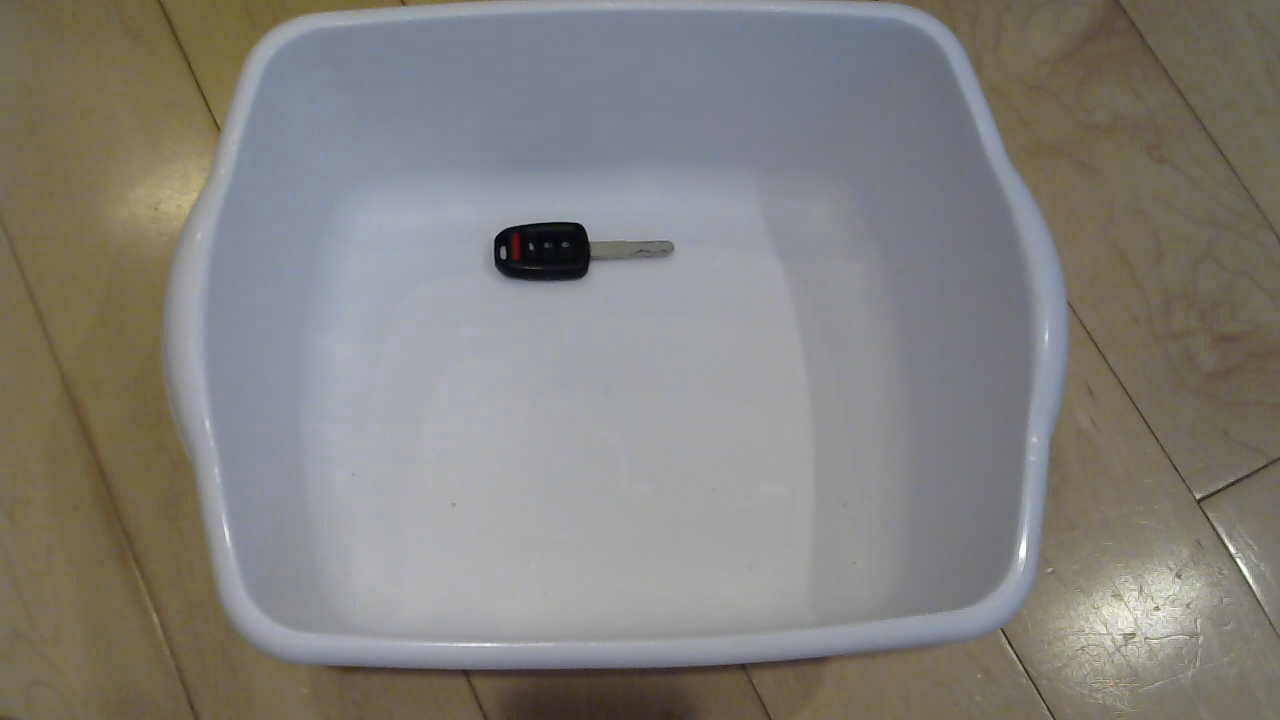key: (475, 203, 690, 292)
